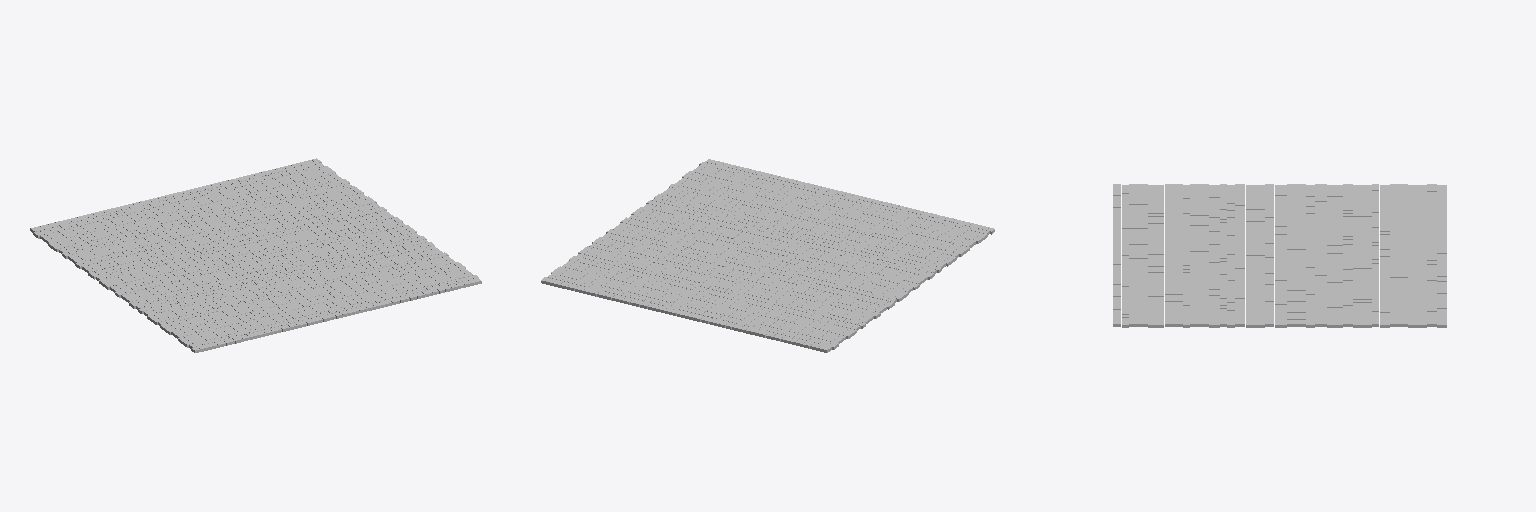
File: fieldRock.obj
3 views of the same model, side by side, from view 1: azimuth 30°, elevation 25°; view 2: azimuth 150°, elevation 25°; view 3: azimuth 270°, elevation 25° (orthographic).
Visible parts, largest first — view 1: Wall.001; view 2: Wall.001; view 3: Wall.001.
Boxes of the visible parts, box(x1,y1,x2,y2) form: Wall.001: box(30, 158, 481, 352); Wall.001: box(541, 159, 994, 352); Wall.001: box(1113, 184, 1446, 327).
Bounding box in the file's own units: 100 × 1 × 100.